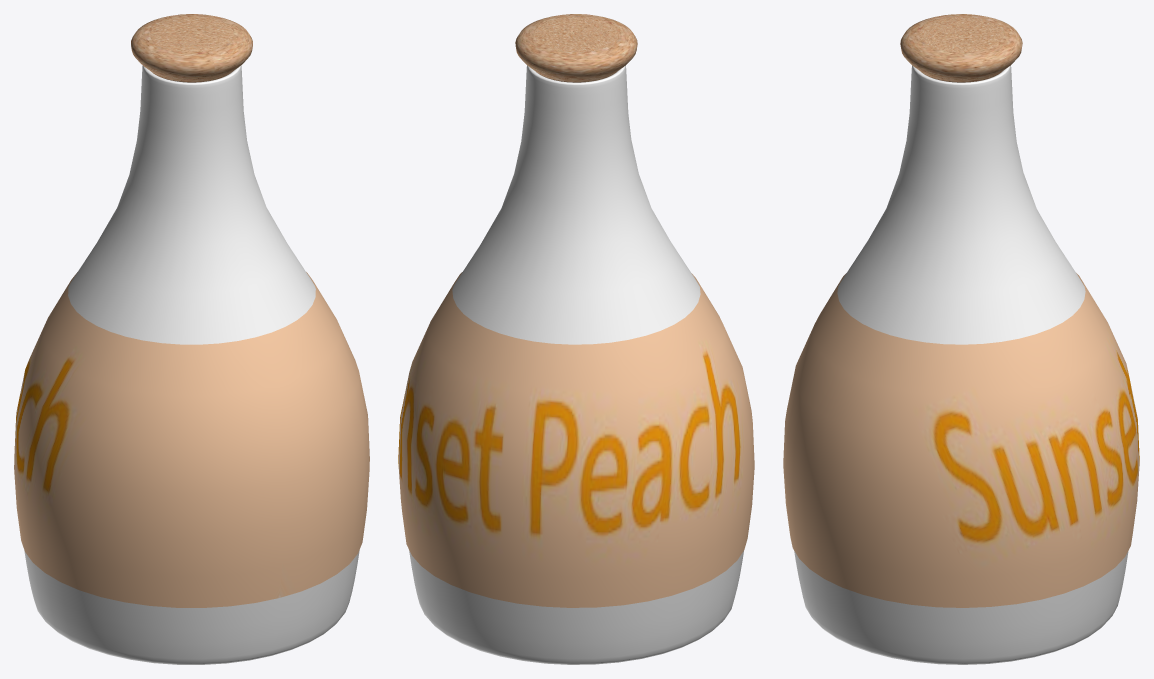
Rendered from Peach.fbx.
The picture shows the model from 3 angles, left to right: view 1: azimuth 30°, elevation 25°; view 2: azimuth 150°, elevation 25°; view 3: azimuth 270°, elevation 25°; orthographic projection.
Visible parts, largest first — view 1: Label, Peach, Cork; view 2: Label, Peach, Cork; view 3: Label, Peach, Cork.
Boxes of the visible parts, x1,y1,x2,y2 form: Label: (14, 272, 369, 607); Peach: (24, 65, 359, 664); Cork: (131, 14, 252, 82); Label: (398, 272, 754, 607); Peach: (409, 65, 743, 664); Cork: (515, 14, 637, 82); Label: (783, 273, 1139, 607); Peach: (794, 65, 1128, 664); Cork: (900, 14, 1022, 82).
Bounding box in the file's own units: 0.3803 × 0.6699 × 0.3803.
